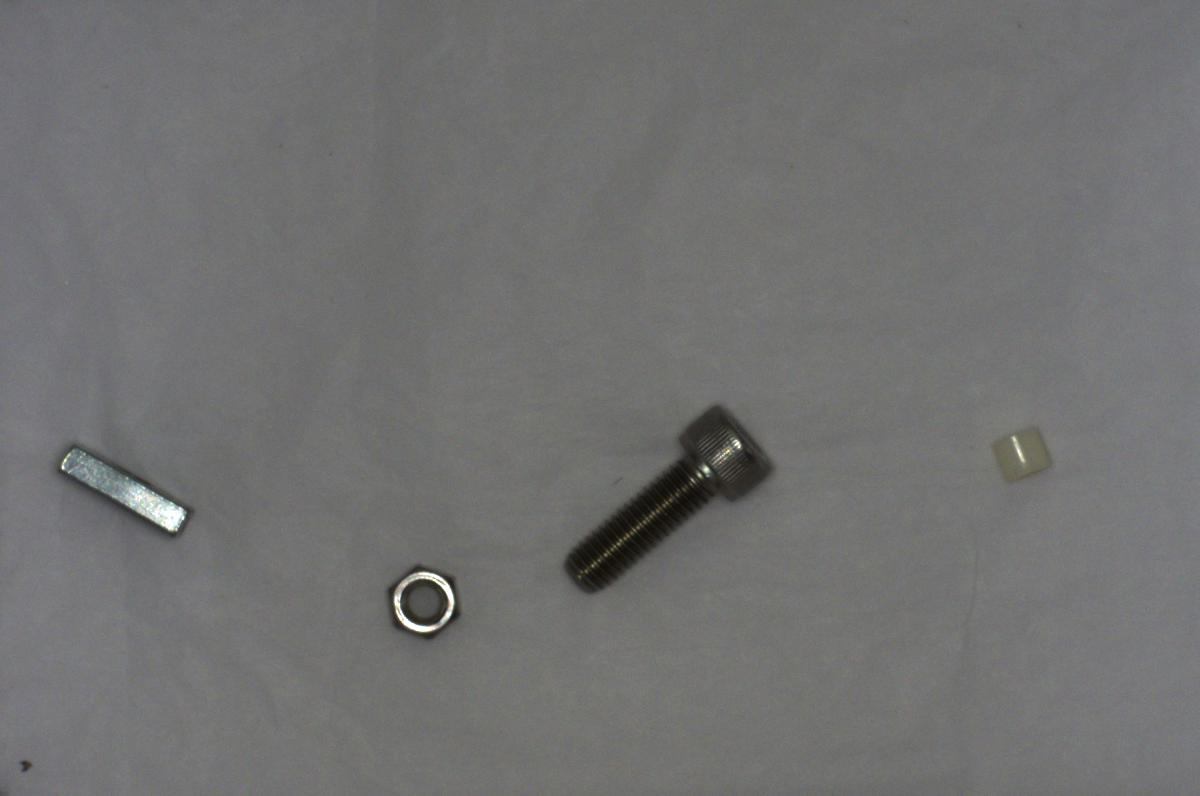Hexagon nut: (375, 556, 465, 640)
Hexagon screw: (561, 399, 781, 601)
Plastic cushion pillar: (985, 422, 1054, 494)
Rectangular nut: (40, 448, 202, 540)
